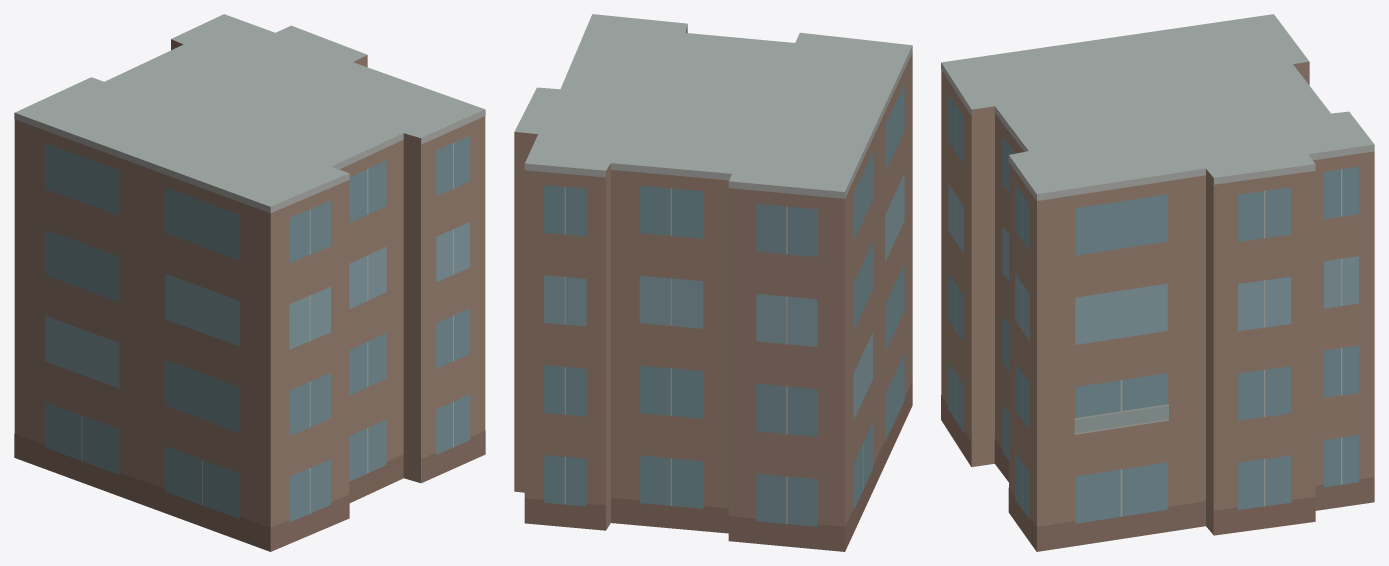
The model's file is survey-upis-32524689.glb.
3 views of the same model, side by side, from view 1: azimuth 30°, elevation 25°; view 2: azimuth 150°, elevation 25°; view 3: azimuth 270°, elevation 25° (orthographic). The views are drawn at different scales.
Visible parts, largest first — view 1: survey-upis-32524689.tmp; view 2: survey-upis-32524689.tmp; view 3: survey-upis-32524689.tmp.
Part boxes in pixels (x1=…): survey-upis-32524689.tmp: x1=14, y1=14, x2=485, y2=551; survey-upis-32524689.tmp: x1=514, y1=14, x2=912, y2=551; survey-upis-32524689.tmp: x1=941, y1=14, x2=1374, y2=551.
Bounding box in the file's own units: 14.07 × 13 × 14.3.
